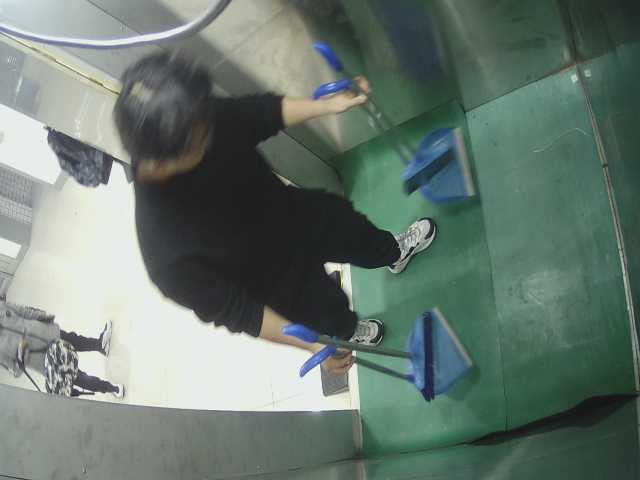broom: (314, 44, 486, 211)
person: (96, 56, 443, 320)
